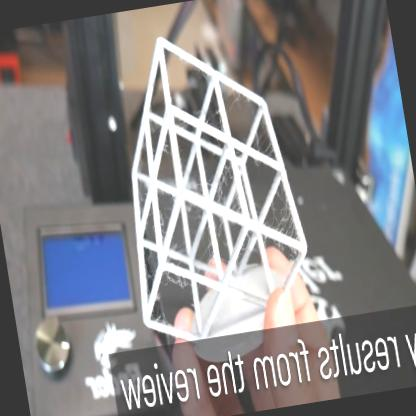fail: (271, 202, 293, 233), (215, 168, 235, 199), (165, 271, 188, 295), (254, 133, 272, 152), (215, 188, 231, 202)
